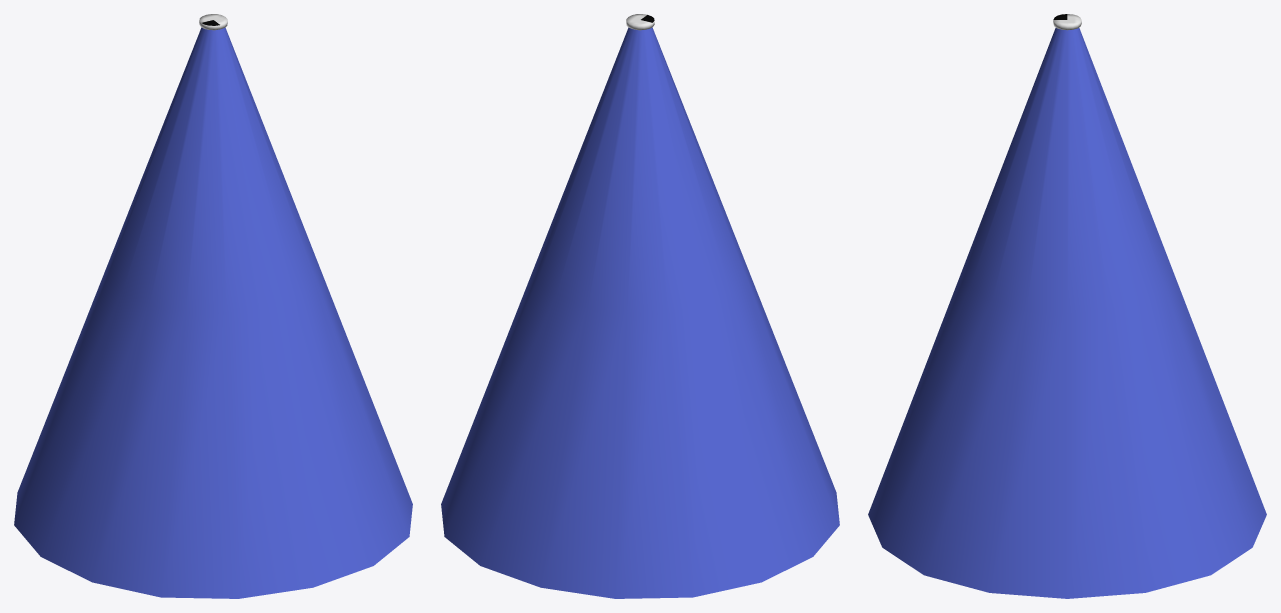
Rendered from model_light_downlight_01.fbx.
The picture shows the model from 3 angles, left to right: view 1: azimuth 30°, elevation 25°; view 2: azimuth 150°, elevation 25°; view 3: azimuth 270°, elevation 25°; orthographic projection.
Visible parts, largest first — view 1: Plane.029; view 2: Plane.029; view 3: Plane.029.
Boxes of the visible parts, x1,y1,x2,y2 form: Plane.029: [14, 14, 412, 598]; Plane.029: [441, 14, 839, 598]; Plane.029: [868, 14, 1266, 598].
Bounding box in the file's own units: 439 × 600 × 439.
